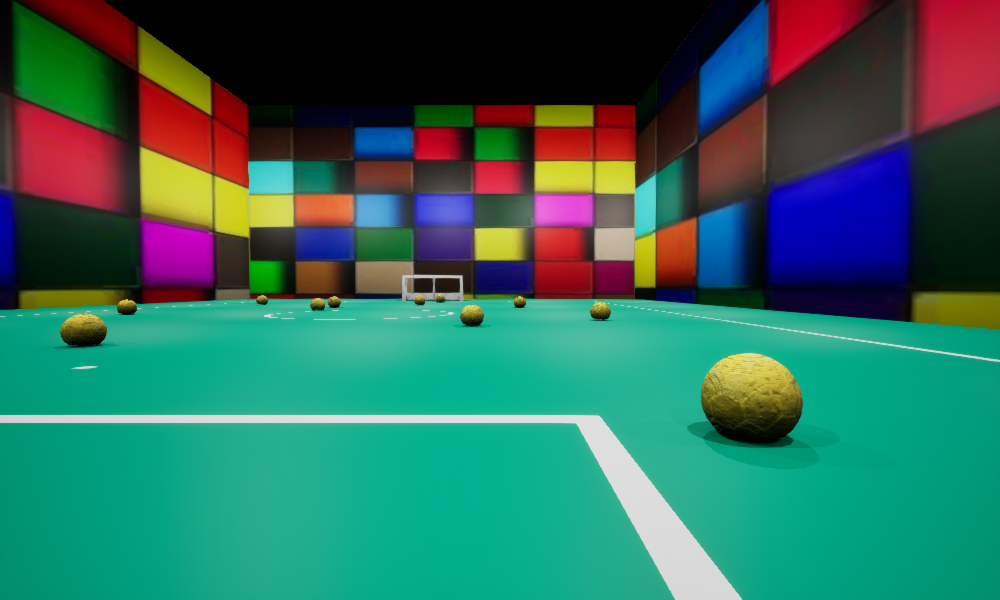b: (701, 353, 802, 440), (60, 313, 106, 346), (460, 305, 483, 324), (590, 302, 610, 319), (117, 299, 136, 313), (310, 298, 324, 310), (328, 296, 340, 306), (514, 296, 525, 306), (256, 295, 267, 304), (414, 295, 424, 304), (436, 294, 444, 301)
g: (402, 275, 463, 300)
